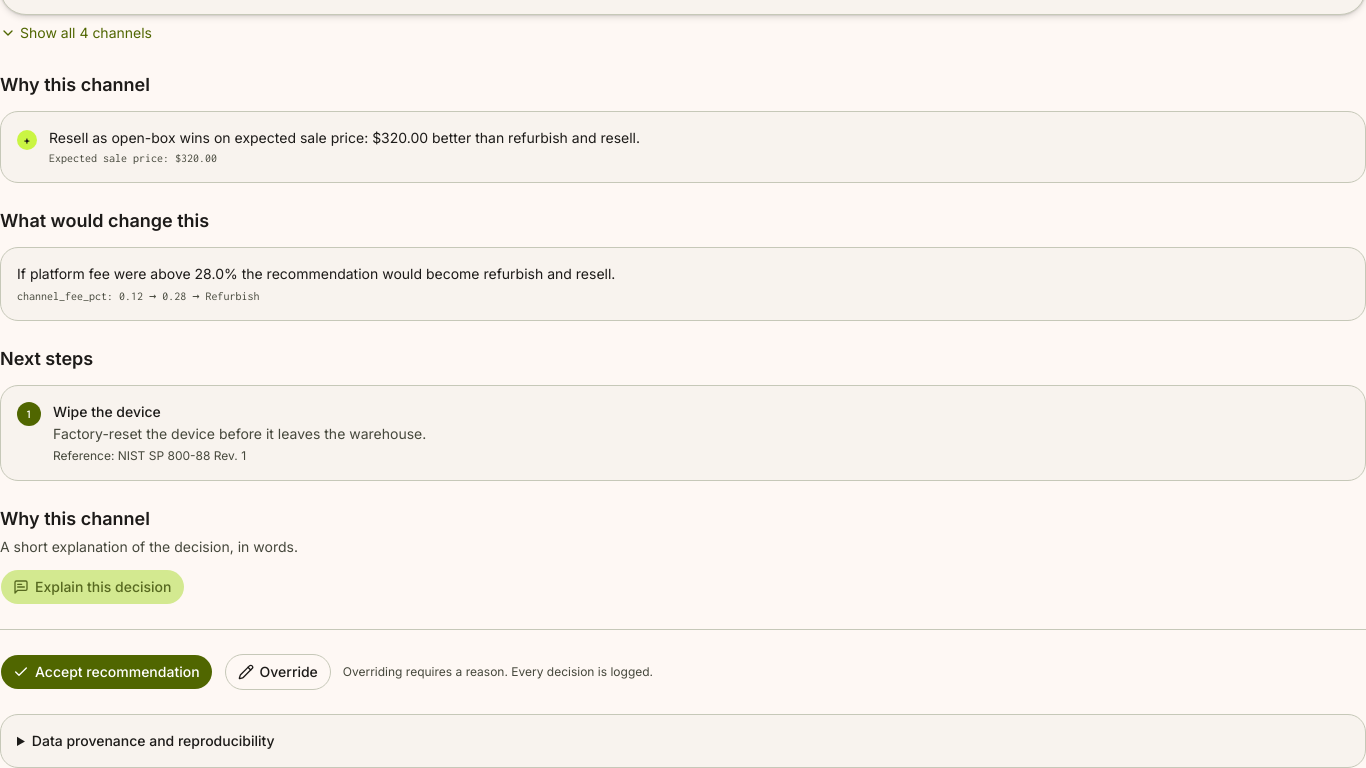
Scenario: DecisionCard › opens the override dialog with the recommended channel preselected
This screenshot has width=1366, height=768.
(page scrolled)
What coordinates should you click on to do the following:
click the button with test id "override-button"
I would click on:
 (278, 672)
Its box is [225,654,331,690].
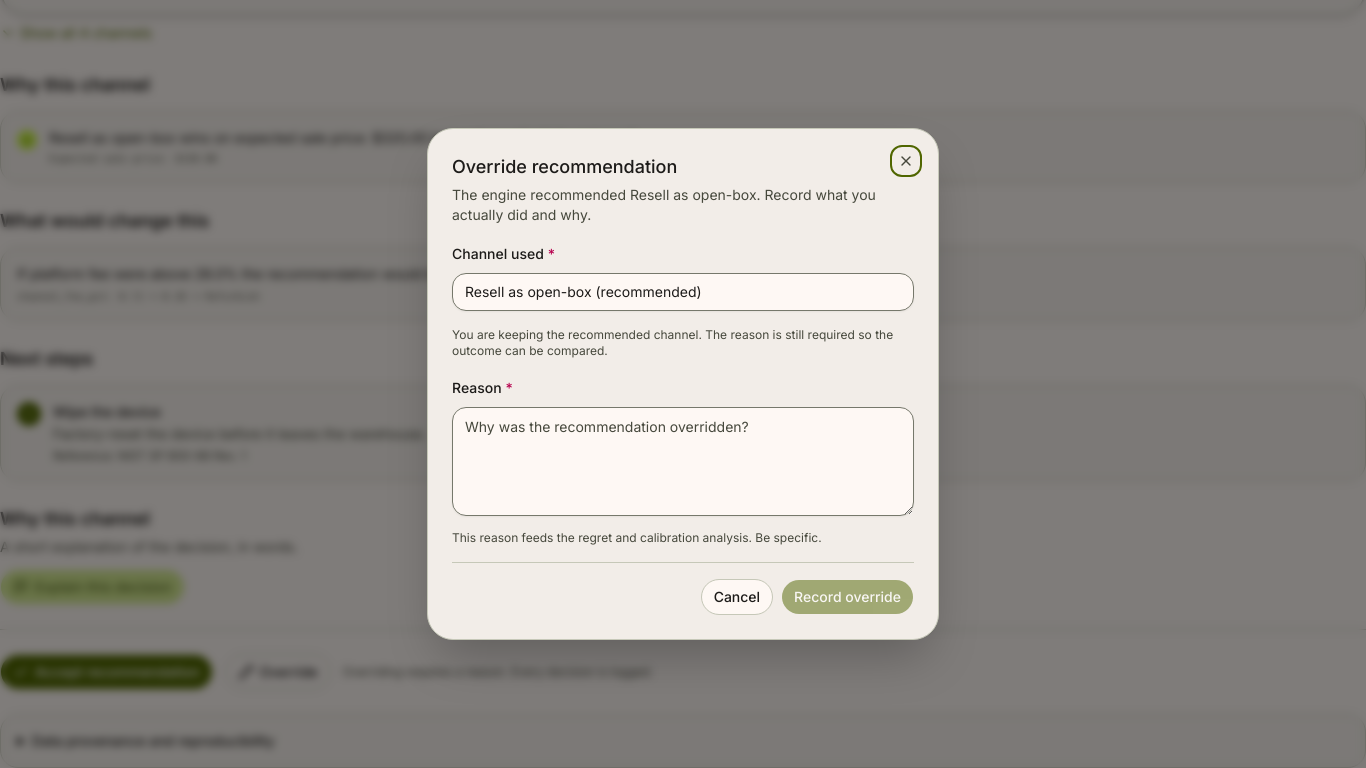
Result: the dialog is shown at [427,128,939,640]
Result: the dropdown labelled "Channel used*" shows "Resell as open-box (recommended)" at [452,273,914,311]
